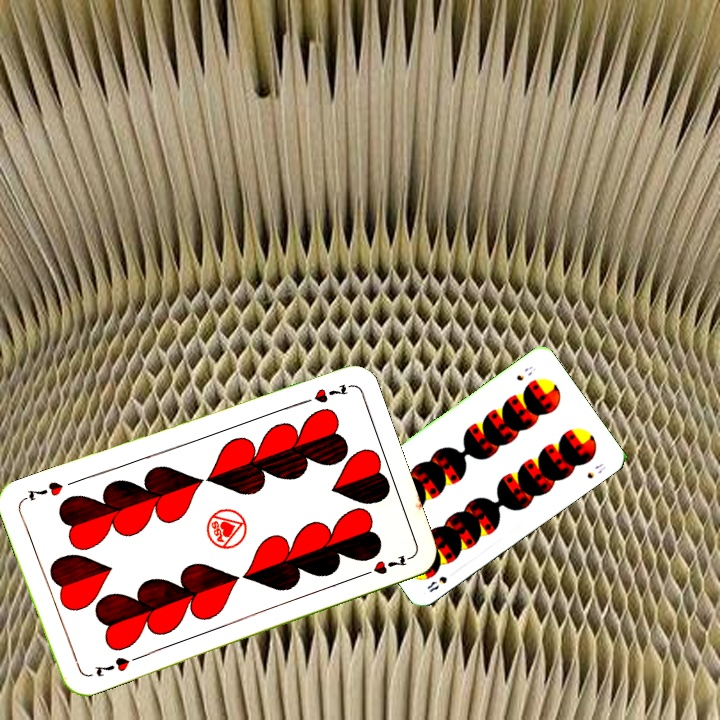H7: (294, 379, 352, 408), (90, 652, 141, 680)
S8: (423, 572, 450, 595), (512, 362, 538, 383)
